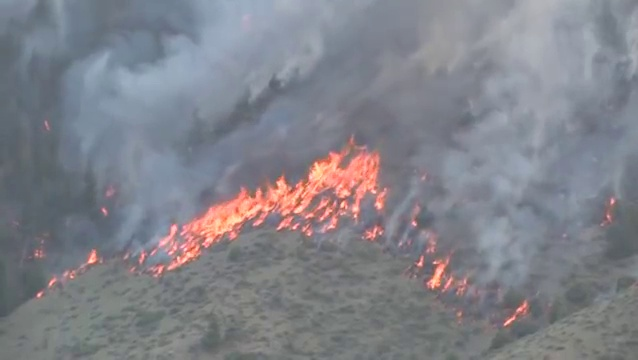fire: (174, 151, 378, 256), (430, 266, 442, 285), (90, 248, 96, 261)
